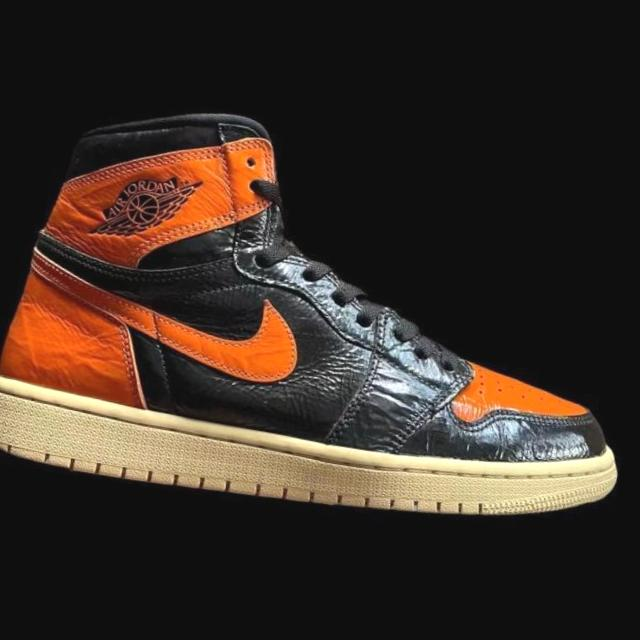nike_original_jordan: (0, 77, 640, 558)
